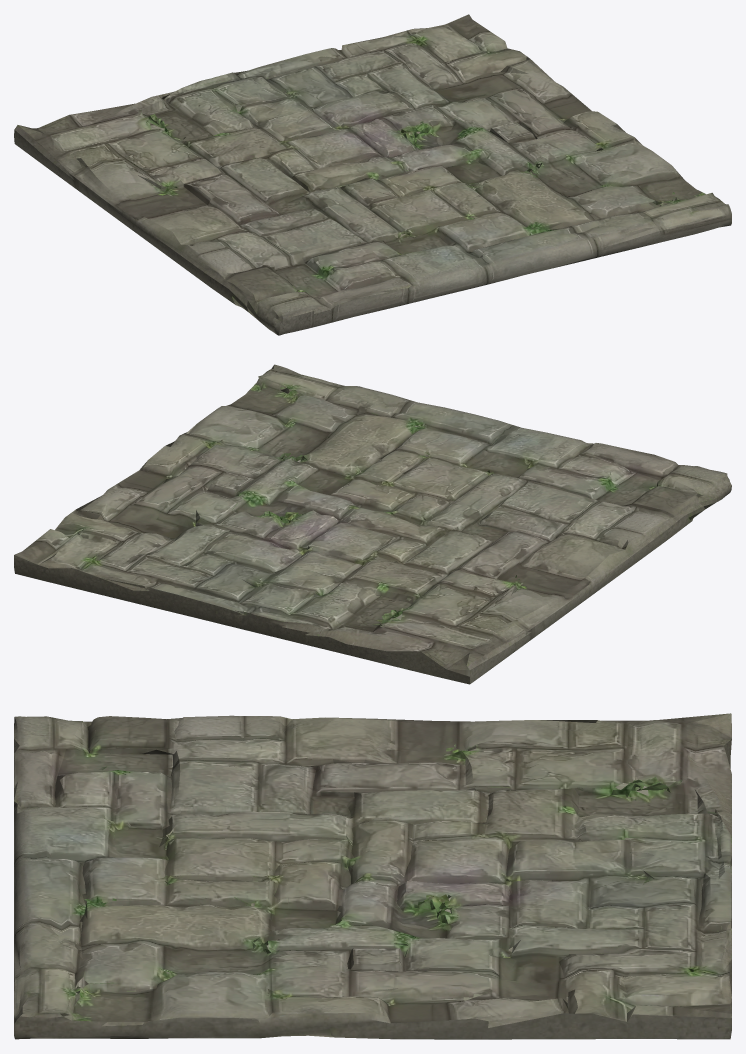
File: Castle_floor.glb
3 views of the same model, one above another, from view 1: azimuth 30°, elevation 25°; view 2: azimuth 150°, elevation 25°; view 3: azimuth 270°, elevation 25° (orthographic). The views are drawn at different scales.
Parts seen in each view (by area): view 1: Mesh_0; view 2: Mesh_0; view 3: Mesh_0.
Boxes of the visible parts, x1=… form: Mesh_0: x1=14, y1=14, x2=731, y2=335; Mesh_0: x1=14, y1=364, x2=731, y2=684; Mesh_0: x1=14, y1=713, x2=731, y2=1039.
Size of the model in its own units: 1.9 by 0.0961 by 1.9.
Materials: 1 (1 with a texture image).
